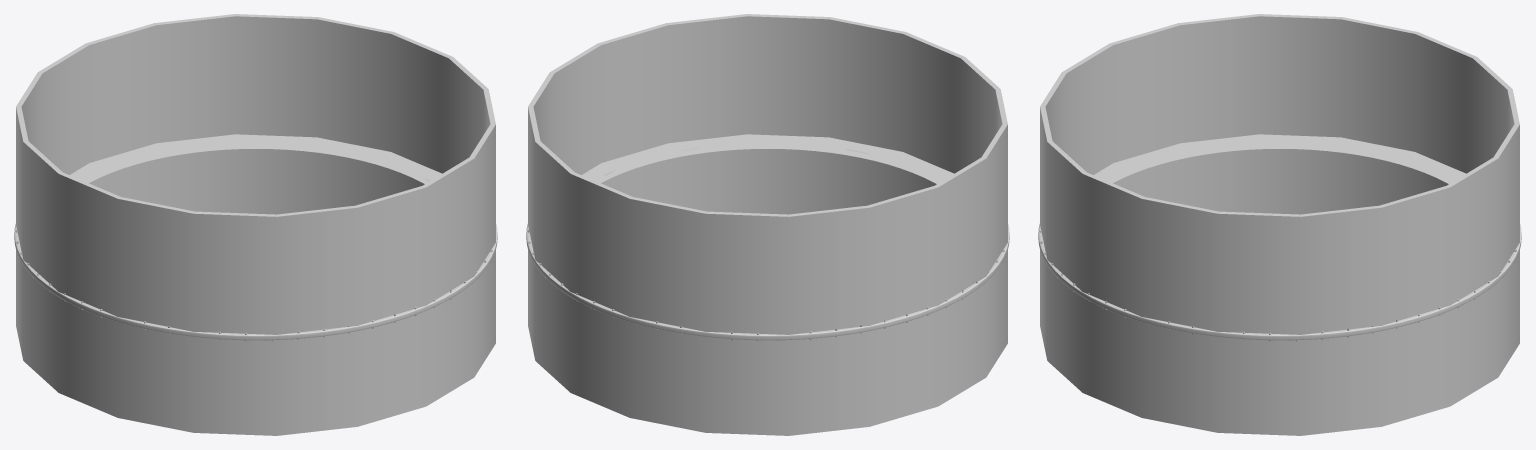
File: Nuti_Stage3.fbx
3 views of the same model, side by side, from view 1: azimuth 30°, elevation 25°; view 2: azimuth 150°, elevation 25°; view 3: azimuth 270°, elevation 25° (orthographic).
Parts seen in each view (by area): view 1: Rocket_hull.003, Hull_part_015; view 2: Rocket_hull.003, Hull_part_015; view 3: Rocket_hull.003, Hull_part_015.
Boxes of the visible parts, bbox=[...] form: Rocket_hull.003: bbox=[16, 14, 495, 435]; Hull_part_015: bbox=[14, 134, 497, 341]; Rocket_hull.003: bbox=[528, 14, 1007, 435]; Hull_part_015: bbox=[526, 134, 1009, 341]; Rocket_hull.003: bbox=[1040, 14, 1519, 435]; Hull_part_015: bbox=[1038, 134, 1521, 341].
Bounding box in the file's own units: 271 × 271 × 136.
